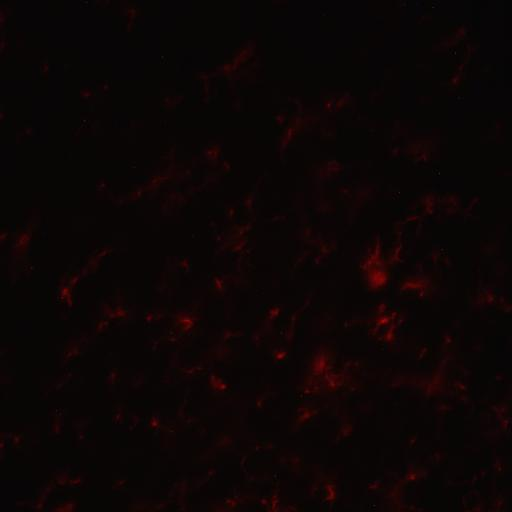microglia: (394, 336, 472, 414), (158, 147, 230, 224), (98, 158, 182, 209), (219, 182, 269, 266), (70, 77, 132, 139), (200, 48, 266, 106), (56, 246, 111, 312), (271, 92, 320, 164), (299, 342, 363, 396), (324, 164, 385, 219), (10, 468, 84, 512), (141, 304, 201, 356), (4, 204, 44, 277), (401, 189, 478, 225), (359, 231, 404, 289), (440, 28, 482, 90), (377, 462, 425, 511), (291, 228, 337, 274), (388, 128, 444, 164), (366, 302, 402, 344), (400, 264, 436, 306), (251, 301, 281, 348), (210, 268, 239, 314), (470, 282, 510, 315), (263, 482, 304, 512), (290, 401, 326, 435), (484, 396, 512, 434), (306, 484, 345, 506), (319, 92, 353, 116), (267, 345, 292, 377), (200, 143, 229, 169), (161, 249, 191, 273), (53, 366, 79, 392), (52, 404, 73, 435), (206, 372, 232, 394), (162, 92, 185, 113), (149, 412, 164, 436), (0, 432, 20, 448), (107, 366, 120, 386), (61, 286, 72, 308), (80, 89, 92, 98), (270, 307, 279, 317), (406, 472, 416, 480), (146, 314, 152, 321), (99, 183, 106, 189)
